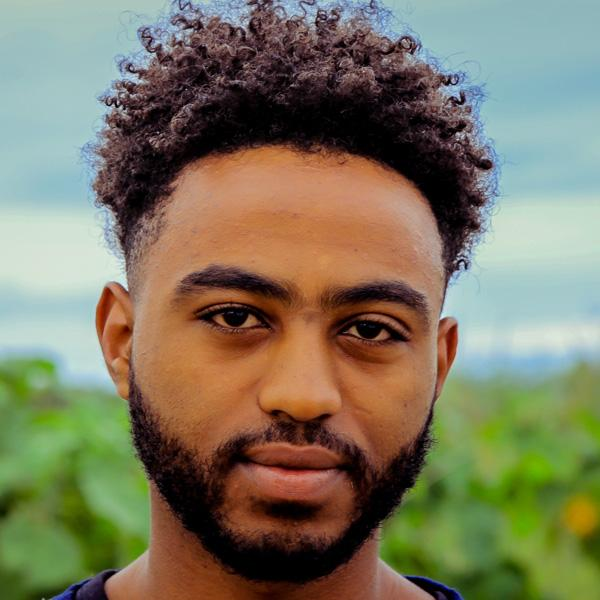Eyes: (186, 288, 280, 353), (327, 304, 415, 361)
